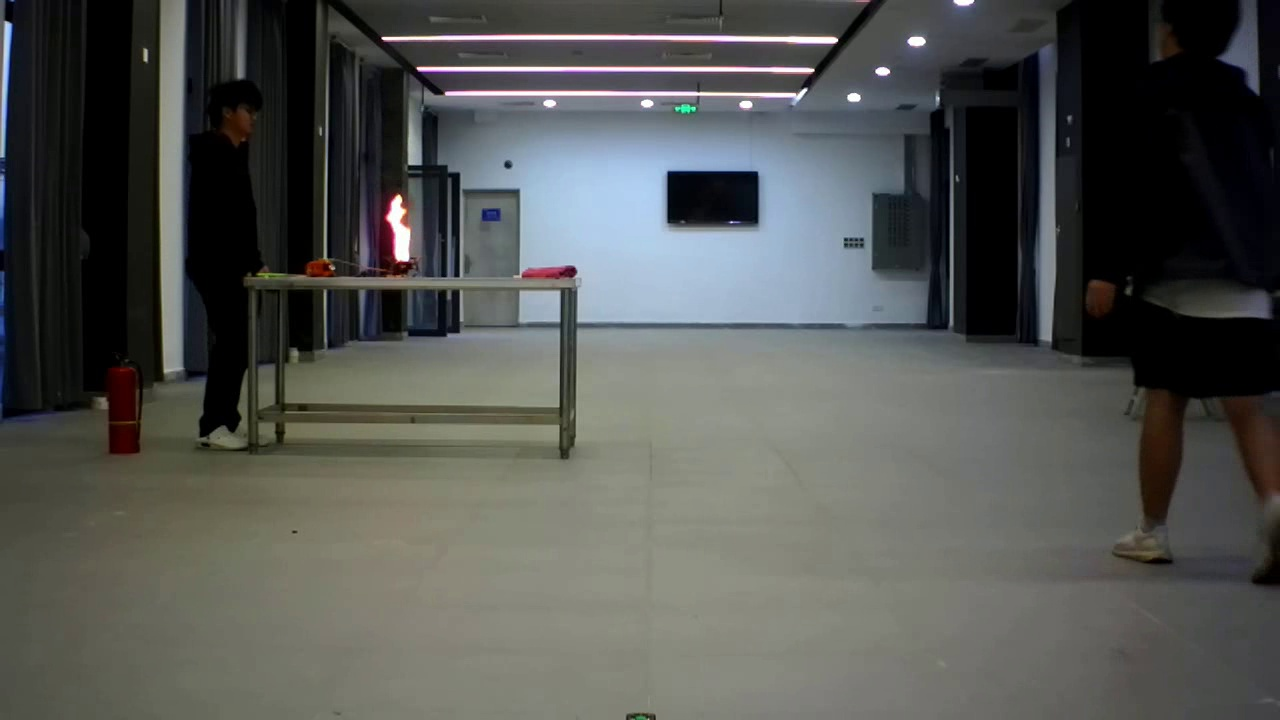Fire: (380, 189, 424, 271)
